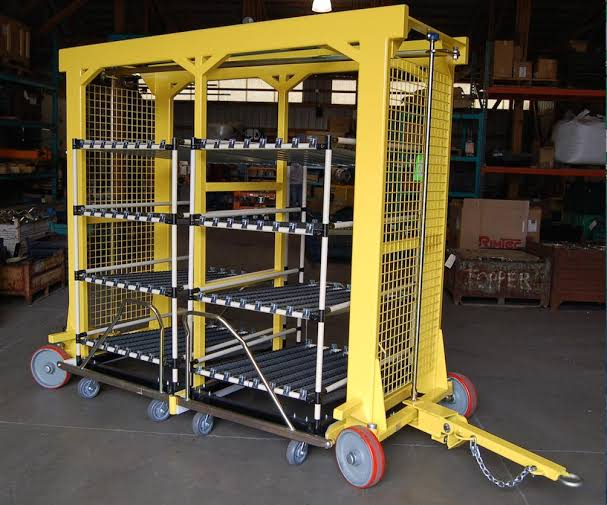Carts: (28, 8, 481, 494)
